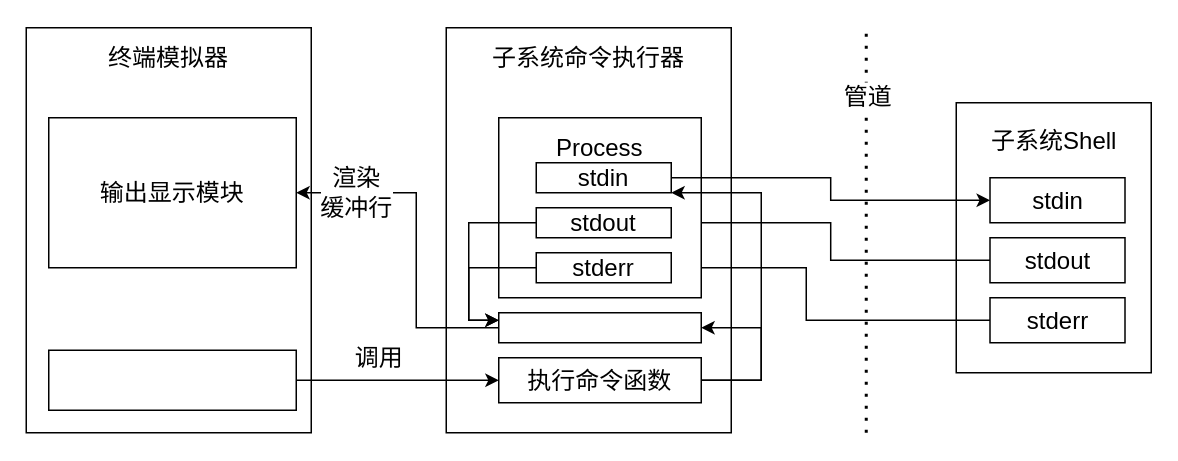
This 1178x461 diagram has some shape labels left out. Each missing label, with the centre of its shape:
命令输入模块: point (171, 379)
缓冲行: point (599, 327)
